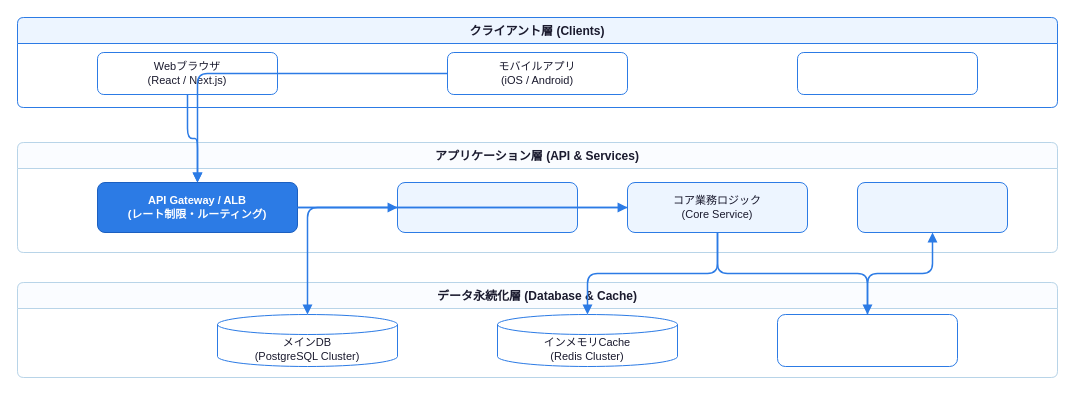
Some shapes in this 1075 by 395 pixel diagram are drawn without their labels. Here are the shapes that lost their labels. From the top down, the centre of each, then its label:
At point (887, 73): "外部システム (パートナーAPI)".
At point (487, 207): "認証・ユーザー管理 (Auth Service)".
At point (932, 207): "非同期ワーカー (Event Worker)".
At point (867, 340): "メッセージキュー (SQS / Kafka)".
